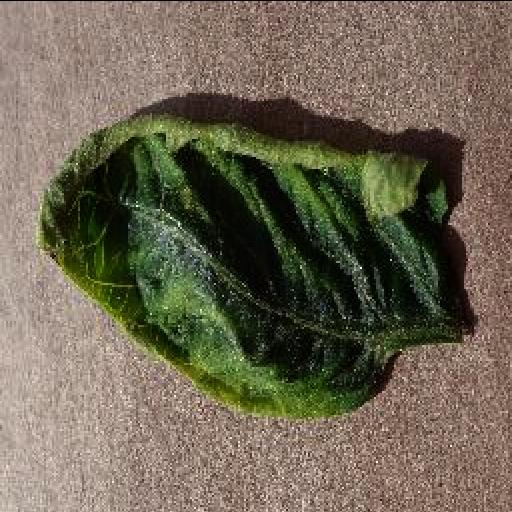disease_tomato: (34, 106, 456, 422)
